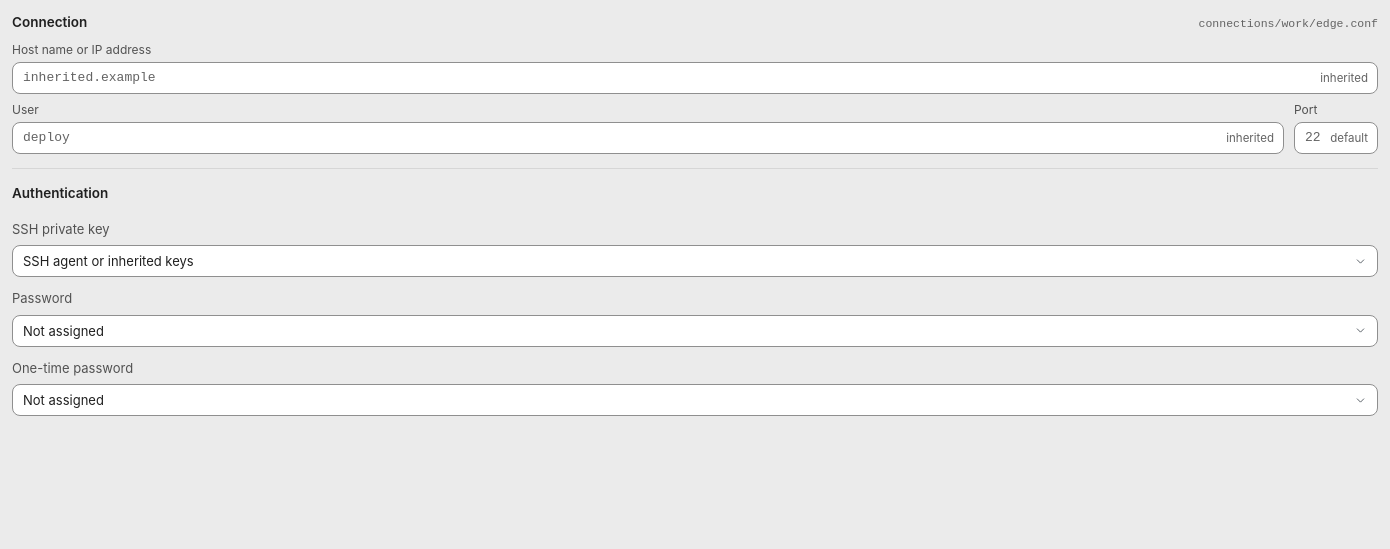
it: ConnectionBasicForm › says what stands in the way of a saved password only once a password is used
Check: the text "This host key is not in known_hosts" is not shown
Select "Encrypted password for this connection" in the dropdown labelled "Password" at [695, 330], box [12,314,1378,346]
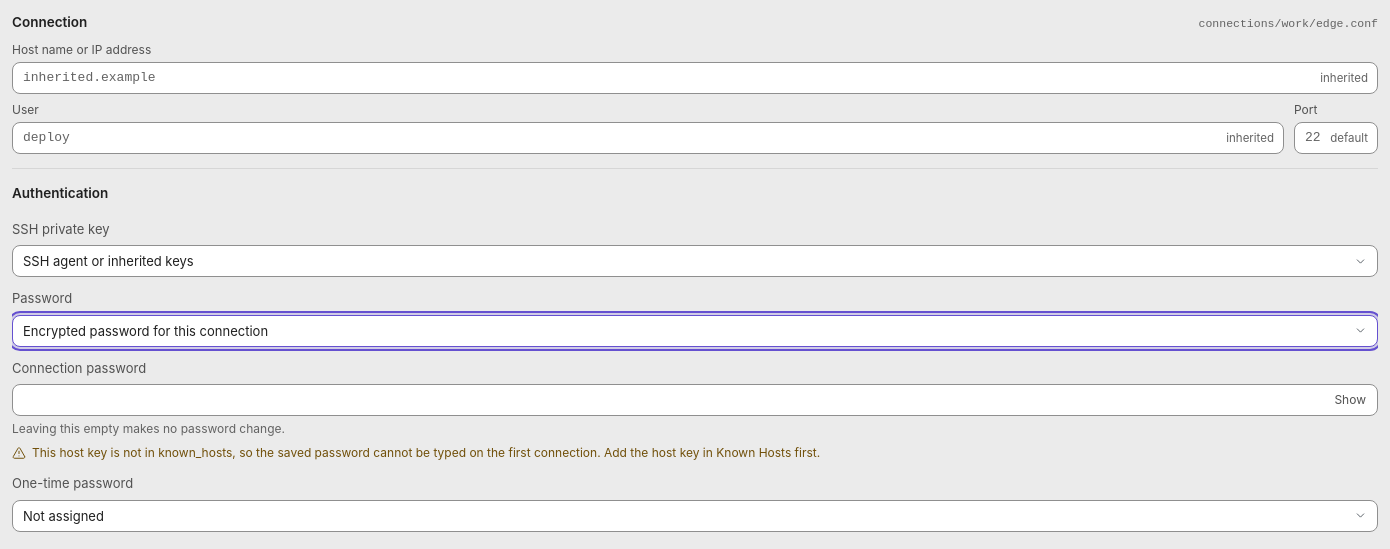
Check: the text "This host key is not in known_hosts" is shown, box [32,445,820,460]
